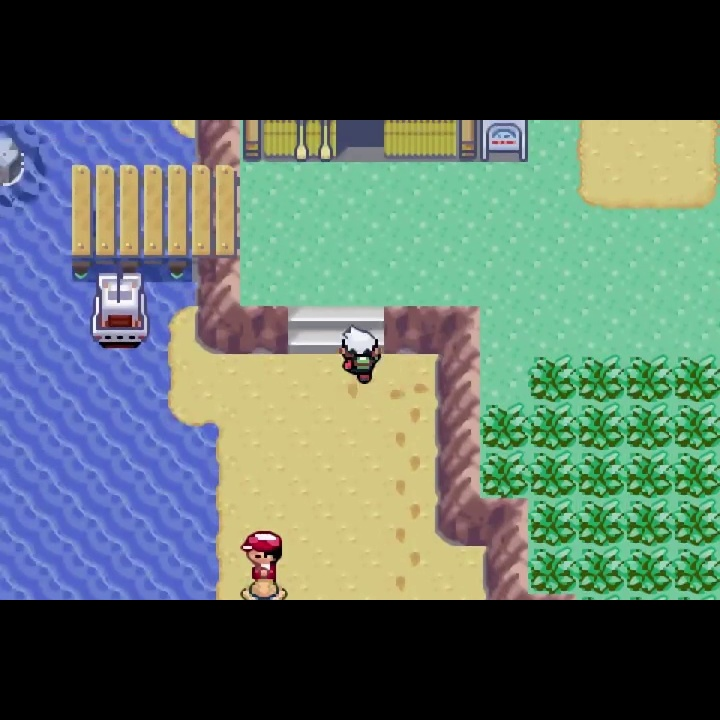grass: (576, 352, 625, 404), (623, 401, 672, 452), (672, 353, 720, 404), (527, 354, 576, 403), (671, 402, 720, 451), (576, 402, 624, 452), (672, 450, 720, 500), (672, 498, 720, 548), (481, 449, 529, 498), (529, 450, 577, 499), (480, 403, 530, 450), (624, 450, 671, 500), (529, 498, 576, 548), (529, 402, 577, 450), (577, 450, 624, 499), (576, 500, 625, 547), (576, 546, 625, 593), (671, 548, 720, 595), (628, 353, 672, 404), (626, 500, 673, 547), (529, 548, 577, 594), (625, 547, 671, 594)
npc: (336, 322, 382, 387), (239, 527, 285, 582)
